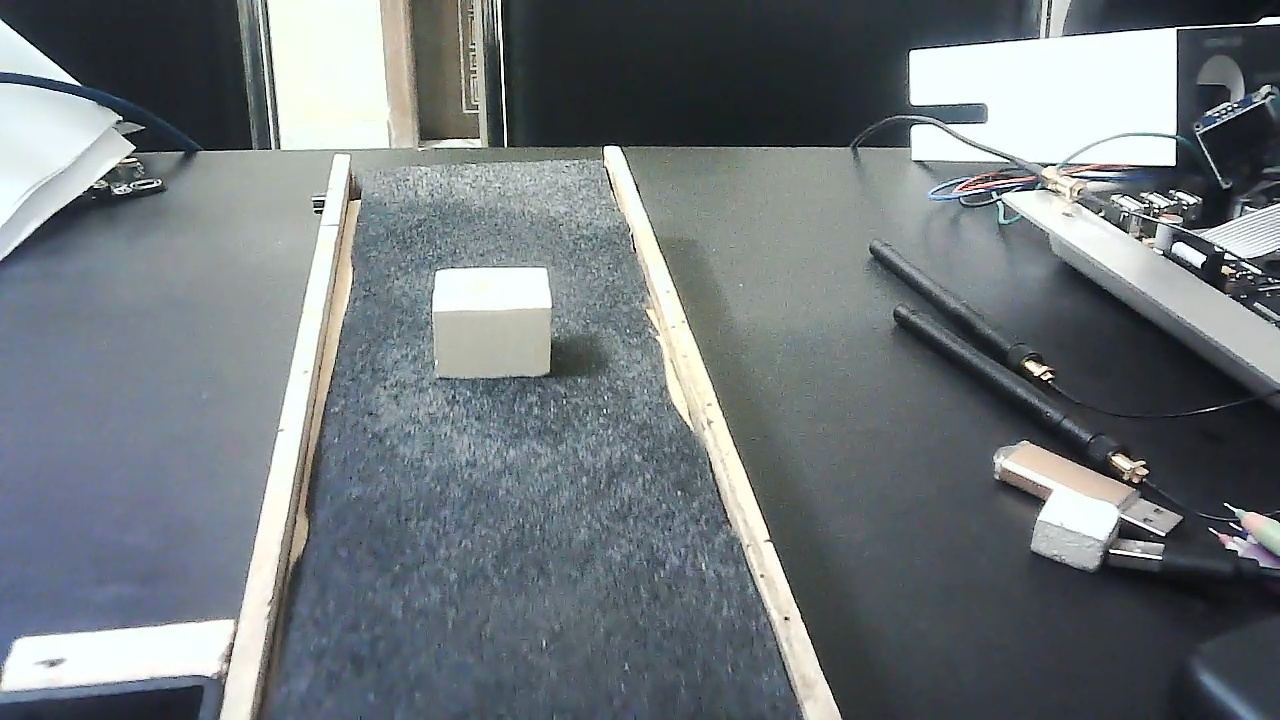Medium: (433, 264, 553, 384)
